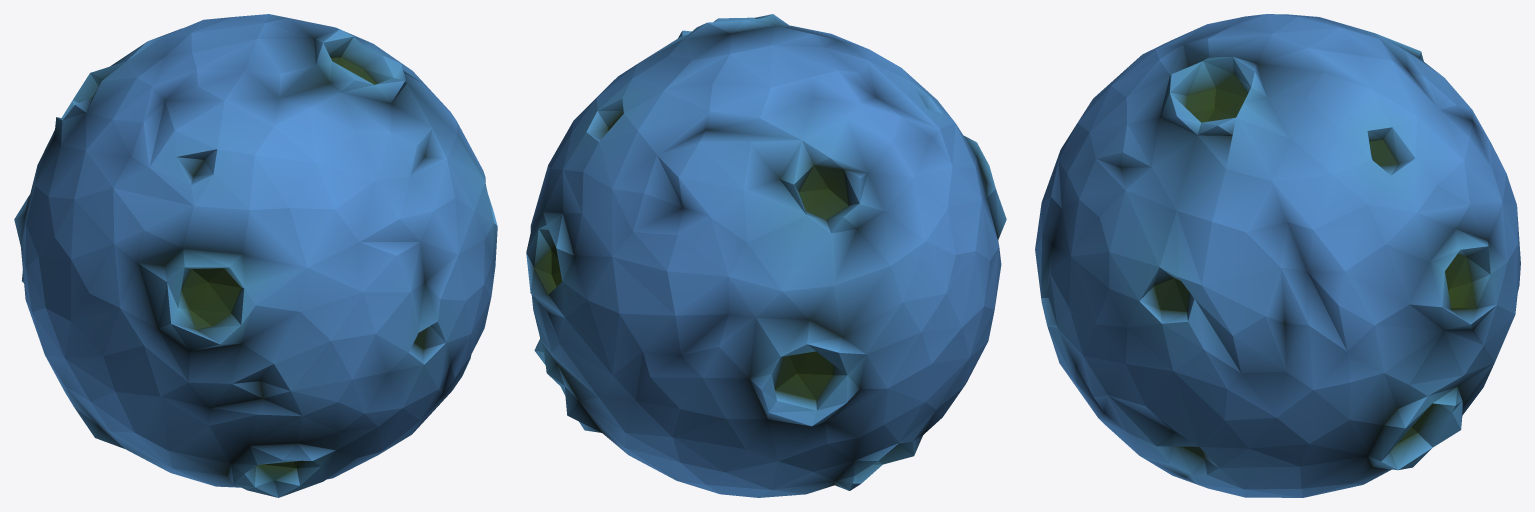
Rendered from moon5.fbx.
3 views of the same model, side by side, from view 1: azimuth 30°, elevation 25°; view 2: azimuth 150°, elevation 25°; view 3: azimuth 270°, elevation 25° (orthographic). The views are drawn at different scales.
Visible parts, largest first — view 1: attribblur1; view 2: attribblur1; view 3: attribblur1.
Part boxes in pixels (x1,y1,x2,y2): attribblur1: (14, 14, 497, 497); attribblur1: (526, 14, 1006, 497); attribblur1: (1035, 14, 1520, 497).
Bounding box in the file's own units: 0.764 × 0.7681 × 0.7669.
